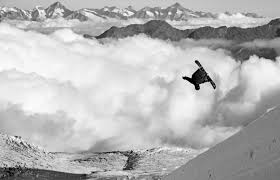snowboard: (195, 59, 217, 90)
